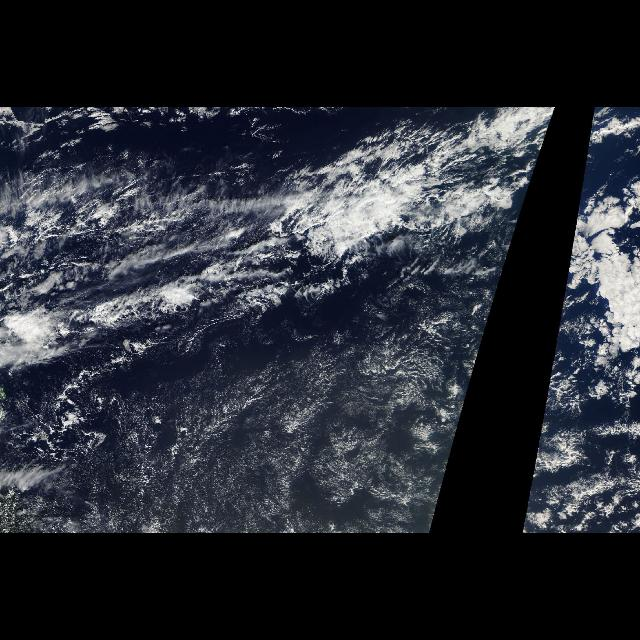Fish: (2, 132, 520, 350)
Sugar: (1, 324, 473, 534)
